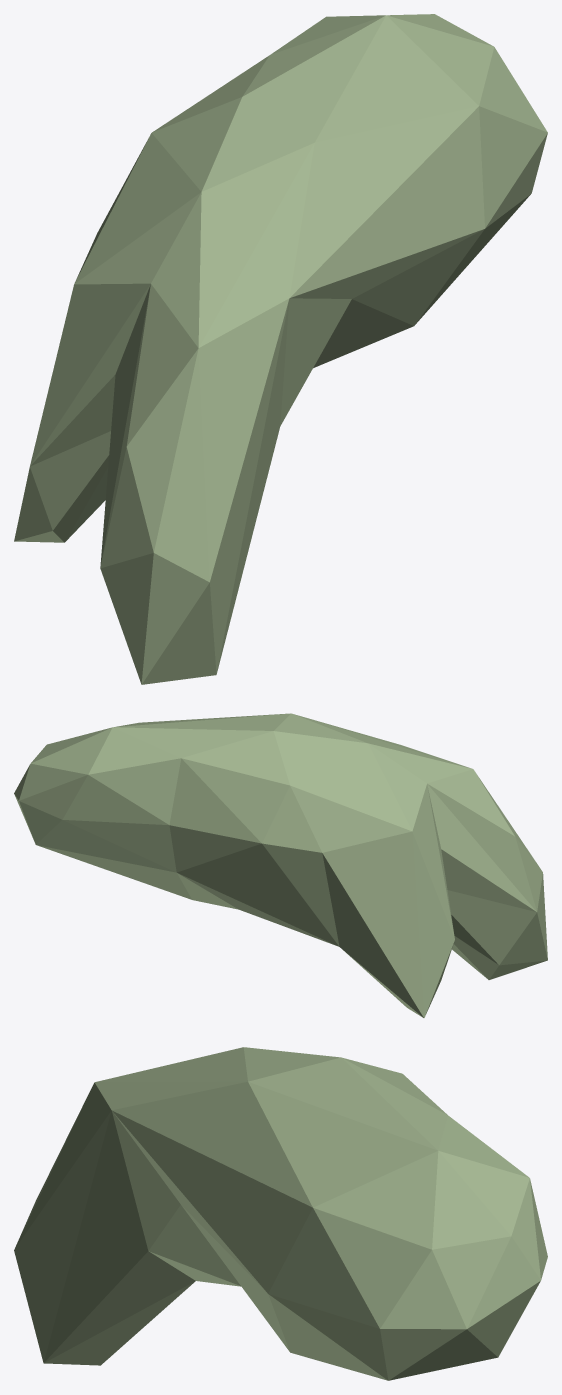
Rendered from EA_Swamp_tree6.007.glb.
3 views of the same model, one above another, from view 1: azimuth 30°, elevation 25°; view 2: azimuth 150°, elevation 25°; view 3: azimuth 270°, elevation 25° (orthographic). The views are drawn at different scales.
Parts seen in each view (by area): view 1: EA_Swamp_tree6.007; view 2: EA_Swamp_tree6.007; view 3: EA_Swamp_tree6.007.
Boxes of the visible parts, x1,y1,x2,y2 form: EA_Swamp_tree6.007: (14, 14, 547, 684); EA_Swamp_tree6.007: (14, 713, 547, 1017); EA_Swamp_tree6.007: (14, 1047, 547, 1380).
Bounding box in the file's own units: 2.51 × 1.69 × 2.04.
1 material, 1 textured.
